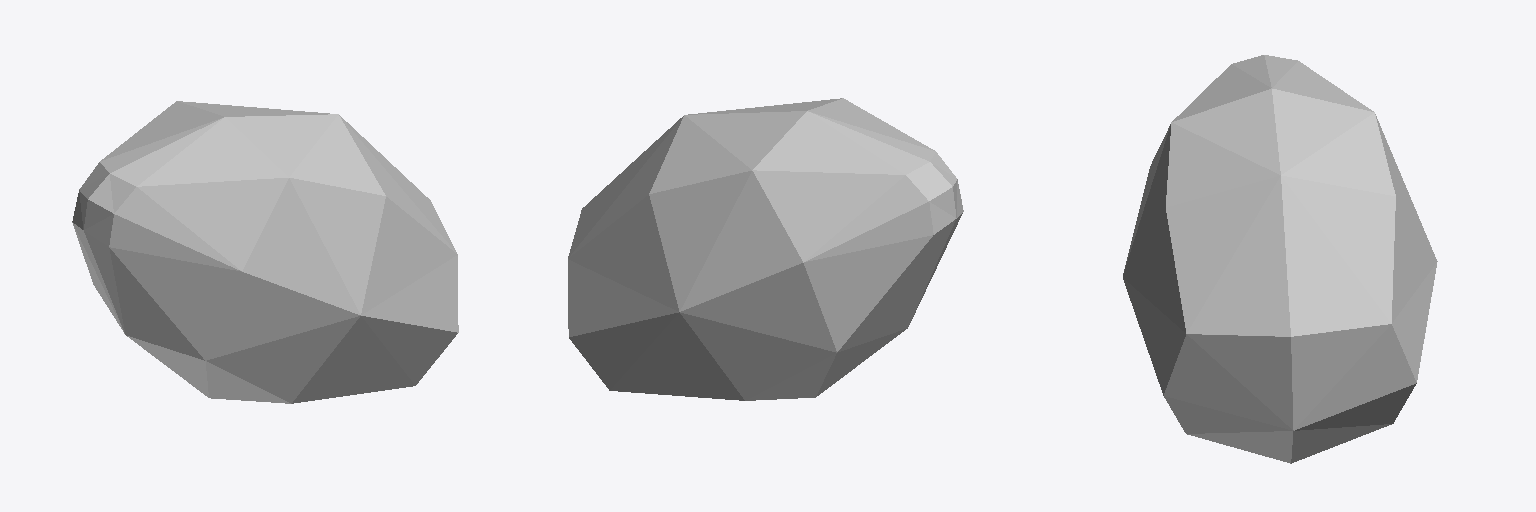
Rendered from low_poly_raccoon_tail_2.obj.
The picture shows the model from 3 angles: view 1: azimuth 30°, elevation 25°; view 2: azimuth 150°, elevation 25°; view 3: azimuth 270°, elevation 25°; orthographic projection.
Visible parts, largest first — view 1: Tail_2; view 2: Tail_2; view 3: Tail_2.
Part boxes in pixels (left/top/right/bottom): Tail_2: left=72, top=101, right=458, bottom=403; Tail_2: left=568, top=98, right=963, bottom=400; Tail_2: left=1123, top=55, right=1437, bottom=463.
Bounding box in the file's own units: 0.2448 × 0.1951 × 0.1851.